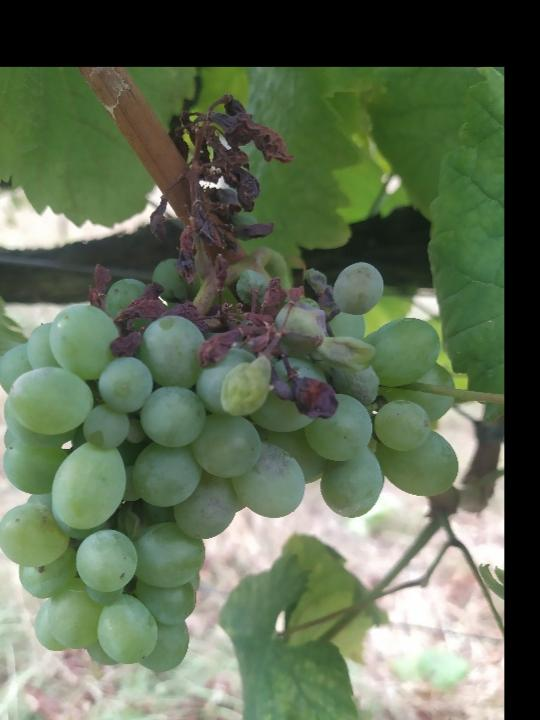grape: (0, 91, 463, 675)
